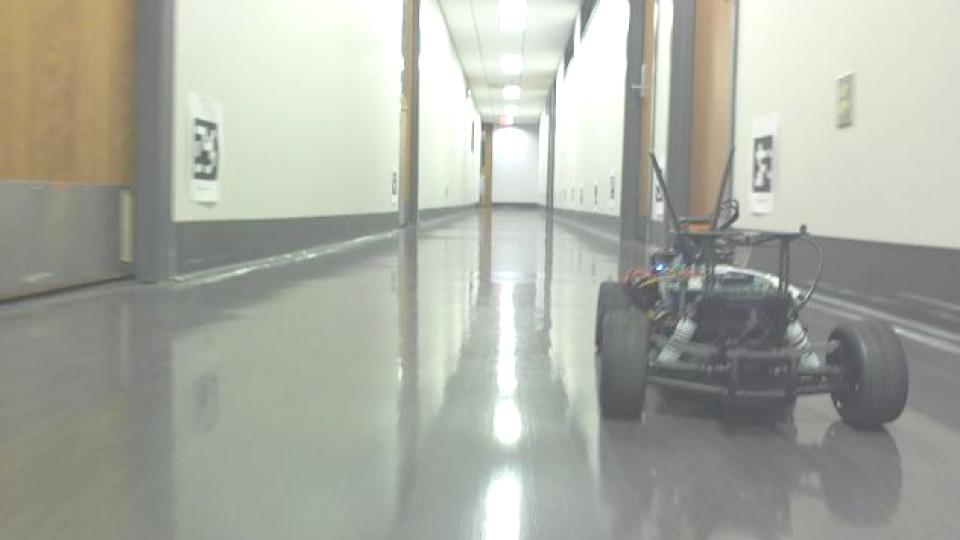car: (590, 146, 912, 434)
